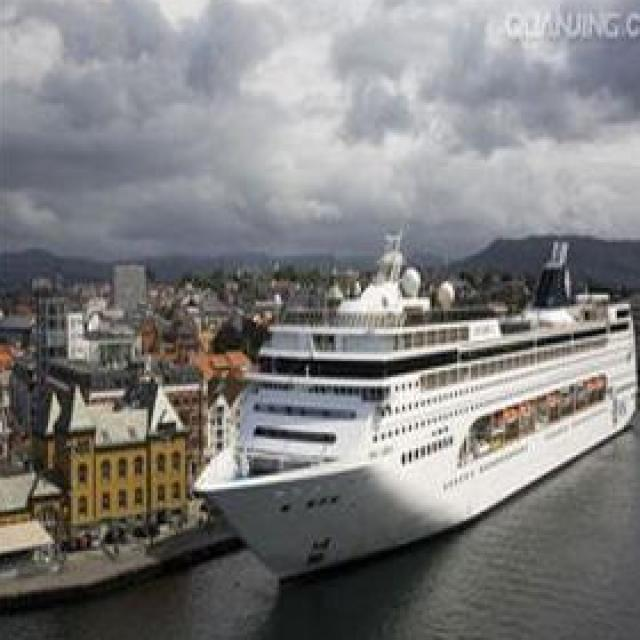passenger ship: (205, 244, 640, 594)
